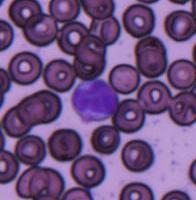M: (72, 78, 119, 122)
